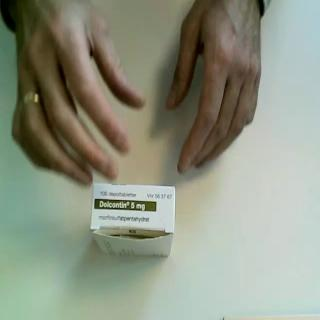dolcontin5mg: (89, 181, 177, 261)
